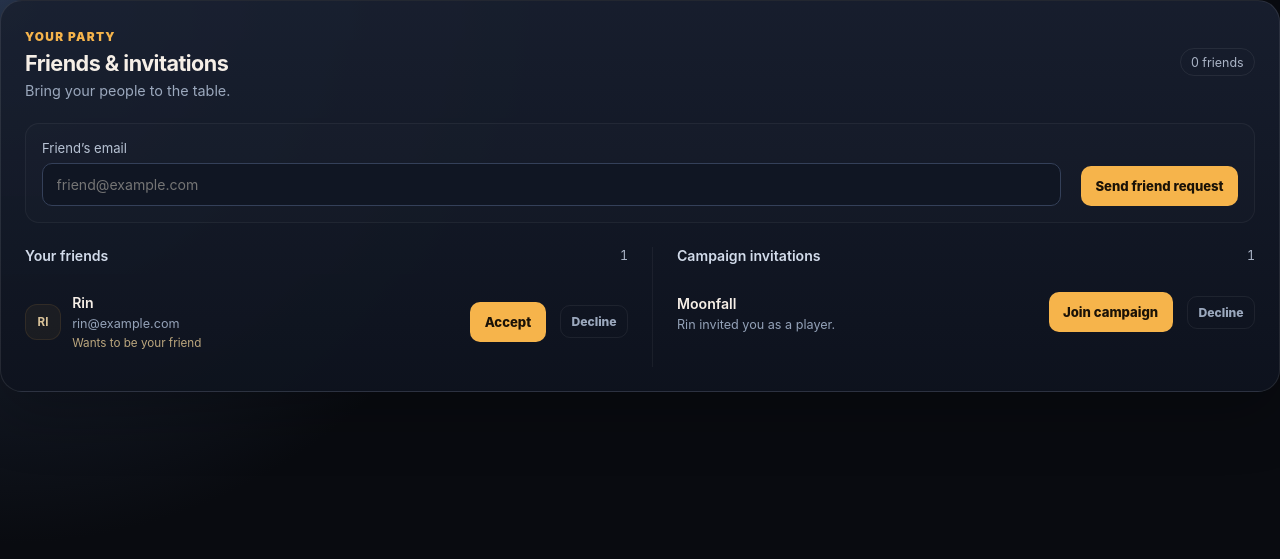
accepts an incoming friendship and a campaign invitation
Click the button "Accept". click: x=508, y=322
box: [470,302,546,342]
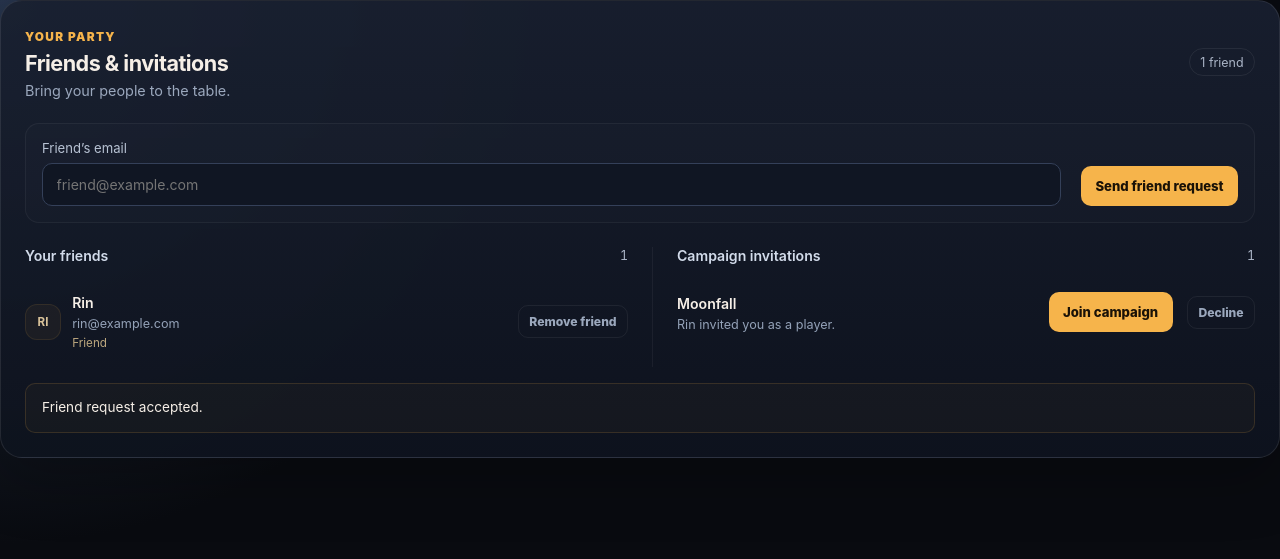
Now the text "Friend request accepted." is shown, box [25,383,1255,433]
Click the button "Join campaign". click: x=1111, y=312
box: [1049,292,1173,332]
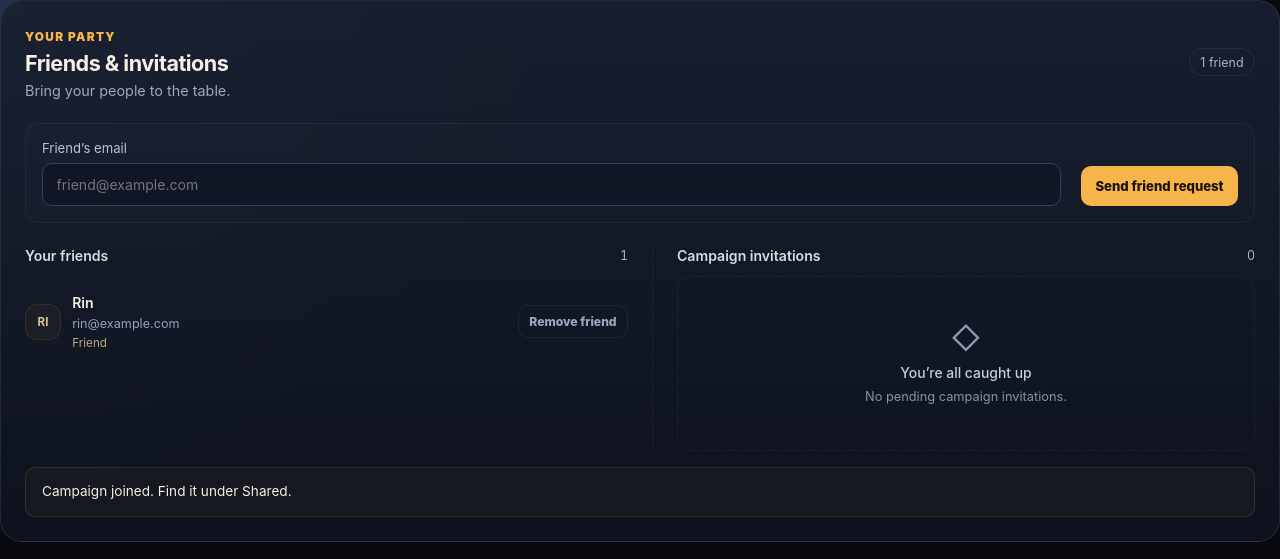
Now the text "Campaign joined. Find it under Shared." is shown, box [25,467,1255,517]
Now the button "Join campaign" is gone
